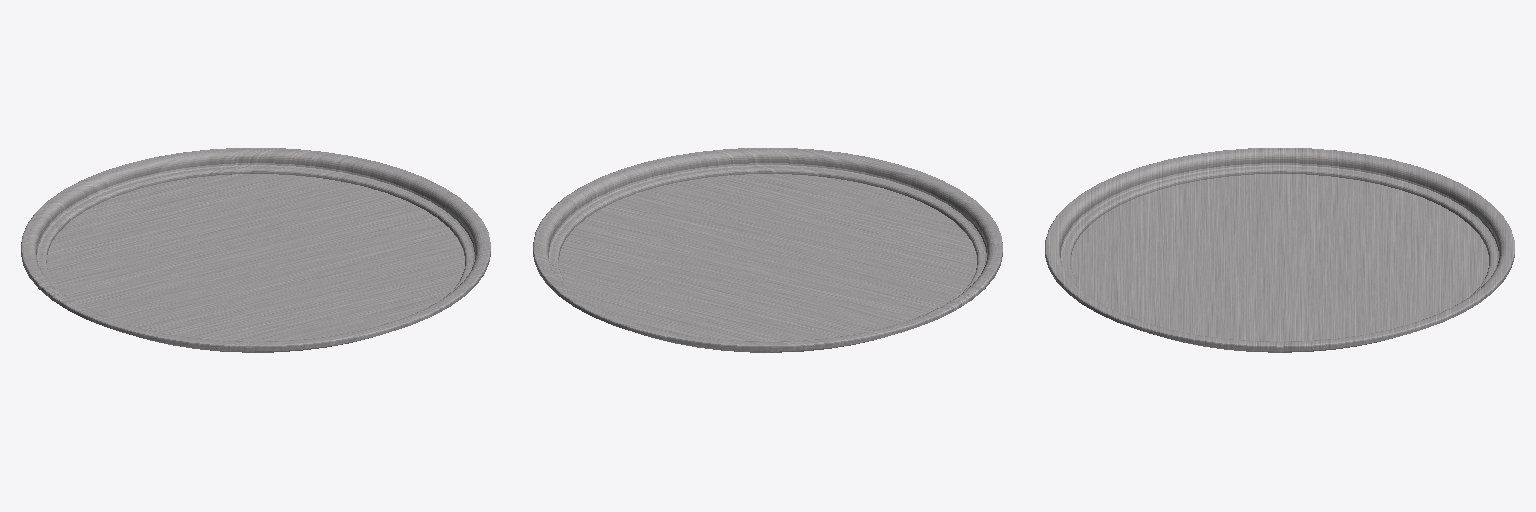
The picture shows the model from 3 angles: view 1: azimuth 30°, elevation 25°; view 2: azimuth 150°, elevation 25°; view 3: azimuth 270°, elevation 25°; orthographic projection.
Parts seen in each view (by area): view 1: Cylinder01; view 2: Cylinder01; view 3: Cylinder01.
Part boxes in pixels (left/top/right/bottom): Cylinder01: left=21, top=148, right=490, bottom=352; Cylinder01: left=533, top=148, right=1002, bottom=352; Cylinder01: left=1045, top=148, right=1514, bottom=352.
Size of the model in its own units: 87.8 by 3.94 by 87.63.
Materials: 1 (1 with a texture image).